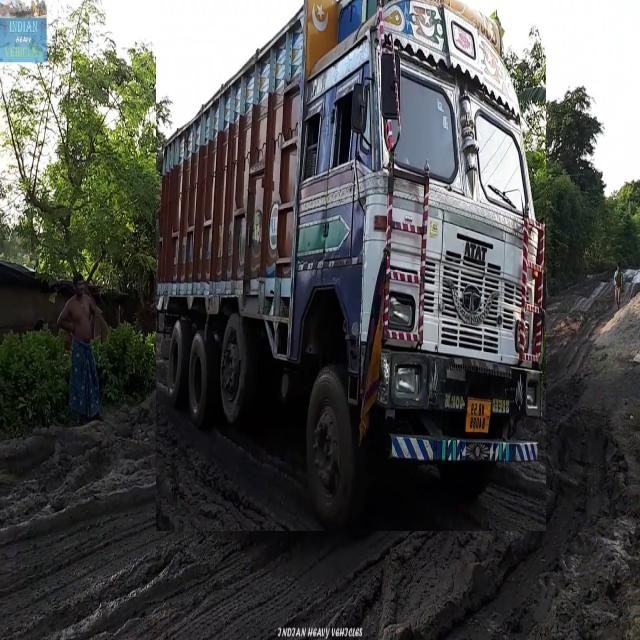truck: (156, 0, 546, 531)
